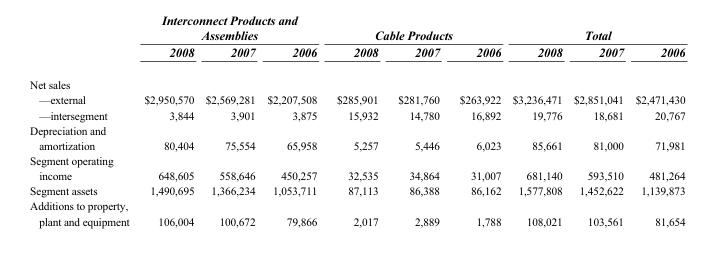table: (29, 29, 684, 227)
table column: (29, 29, 136, 227), (260, 29, 326, 227), (136, 29, 199, 227), (199, 29, 260, 227), (326, 29, 387, 227), (387, 29, 448, 227), (506, 29, 567, 227), (567, 29, 628, 227), (448, 29, 506, 227), (628, 29, 684, 227)
table column header: (29, 29, 684, 69)
table projected row header: (29, 69, 684, 92)
table row: (29, 123, 684, 153), (29, 153, 684, 183), (29, 198, 684, 227), (29, 44, 684, 69), (29, 69, 684, 92), (29, 107, 684, 123), (29, 29, 684, 44), (29, 92, 684, 107), (29, 183, 684, 198)
table spanning cell: (136, 29, 326, 44), (326, 29, 506, 44), (506, 29, 684, 44)
